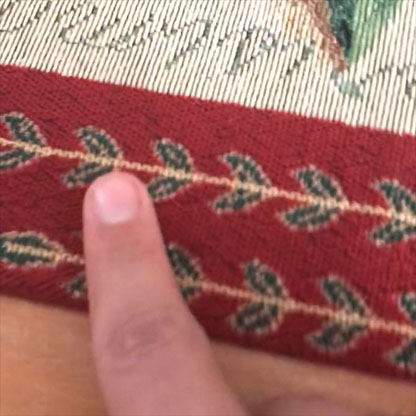fingertip: (59, 163, 186, 258)
